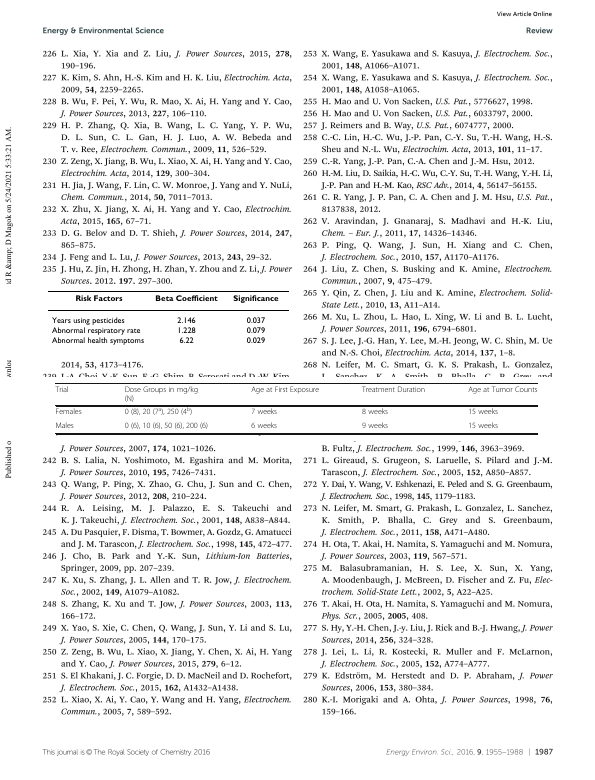borderless: (54, 382, 537, 433), (46, 289, 290, 354)
cell: (124, 386, 199, 404), (51, 336, 145, 346), (51, 326, 141, 336), (124, 422, 209, 432), (124, 406, 193, 418), (51, 316, 125, 325), (467, 386, 538, 395), (250, 386, 320, 395), (361, 386, 426, 395), (154, 294, 218, 303), (74, 294, 123, 303), (232, 294, 279, 303), (467, 408, 499, 418), (467, 422, 499, 432), (250, 408, 278, 418), (361, 408, 389, 418), (250, 422, 278, 432), (361, 422, 389, 432), (55, 408, 82, 418), (245, 326, 266, 336), (245, 336, 266, 346), (54, 422, 75, 432), (176, 326, 196, 336), (245, 316, 266, 325), (176, 316, 196, 325), (178, 336, 194, 346), (55, 386, 69, 395)
